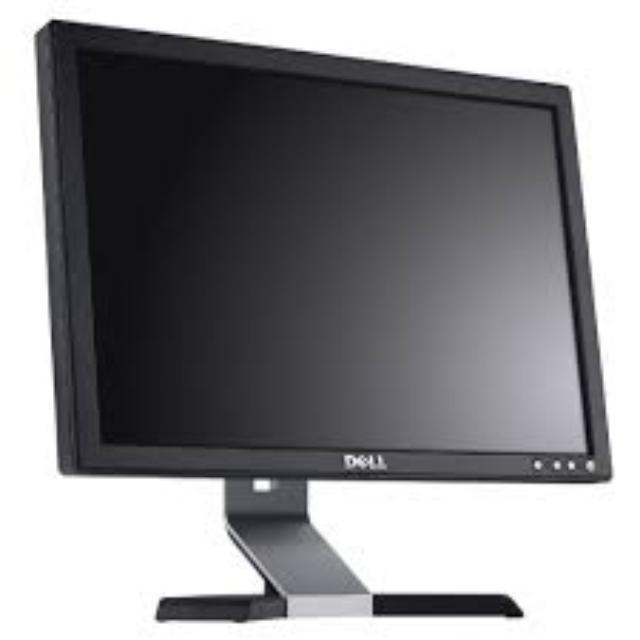Flat-Panel-Monitor: (39, 15, 625, 489)
